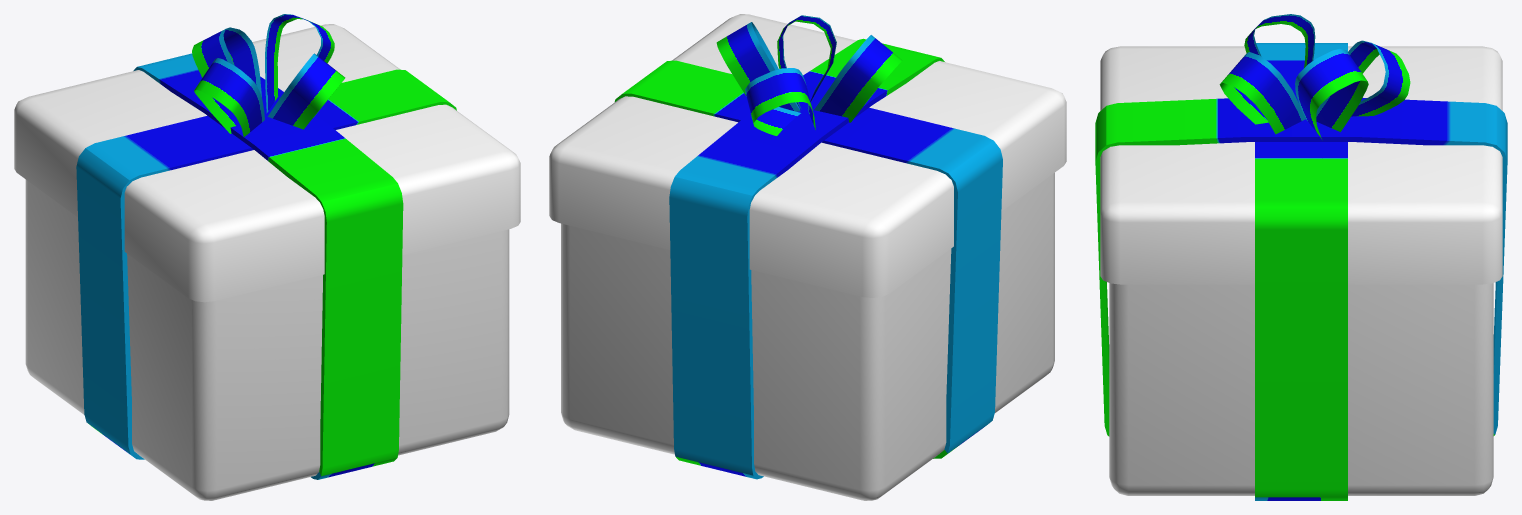
The model's file is gift_box.fbx.
3 views of the same model, side by side, from view 1: azimuth 30°, elevation 25°; view 2: azimuth 150°, elevation 25°; view 3: azimuth 270°, elevation 25° (orthographic). The views are drawn at different scales.
Visible parts, largest first — view 1: giftBox_01; view 2: giftBox_01; view 3: giftBox_01.
Part boxes in pixels (<box>): giftBox_01: <box>14,14,520,500</box>; giftBox_01: <box>549,14,1066,500</box>; giftBox_01: <box>1095,14,1507,500</box>.
Bounding box in the file's own units: 3.14 × 3.32 × 3.14.
